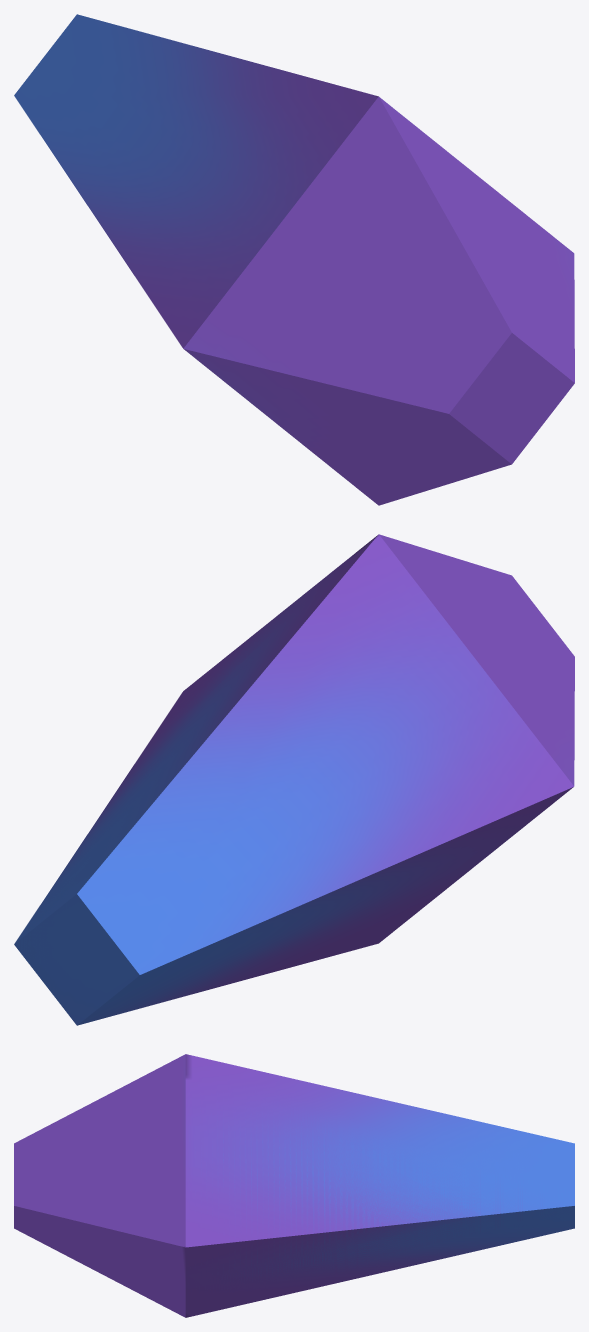
Rendered from Bullet.fbx.
3 renders of one model, top to bottom at view 1: azimuth 30°, elevation 25°; view 2: azimuth 150°, elevation 25°; view 3: azimuth 270°, elevation 25°, orthographic. The views are drawn at different scales.
Visible parts, largest first — view 1: Cube.019; view 2: Cube.019; view 3: Cube.019.
Part boxes in pixels (<box>): Cube.019: <box>14,14,574,505</box>; Cube.019: <box>14,534,574,1025</box>; Cube.019: <box>14,1054,574,1317</box>.
Bounding box in the file's own units: 80.96 × 80.96 × 156.
1 material, 1 textured.
